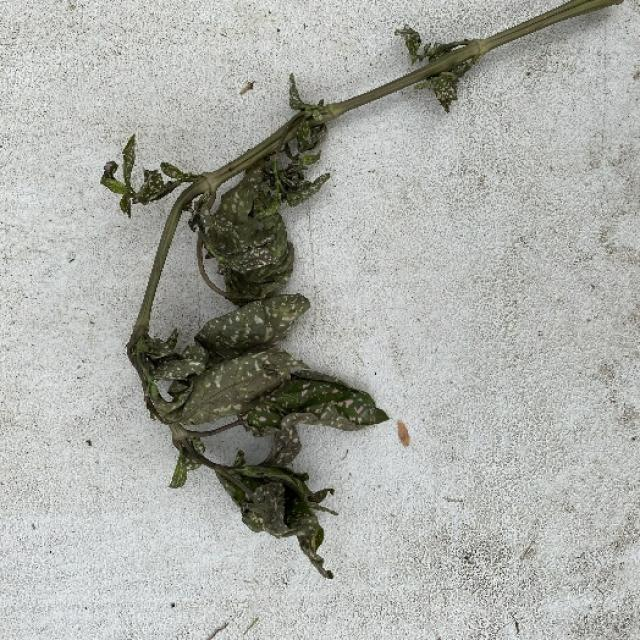organik: (102, 0, 629, 553)
